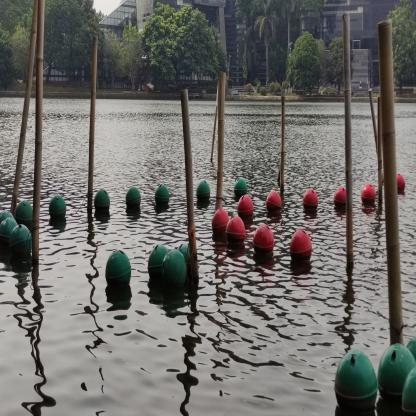green_buoy: (334, 348, 378, 414), (377, 341, 415, 402), (104, 249, 132, 292), (162, 249, 188, 293), (147, 242, 169, 284), (10, 225, 32, 260), (400, 365, 415, 415), (14, 200, 34, 228), (0, 218, 18, 247), (176, 242, 192, 274), (49, 194, 67, 222), (94, 187, 112, 213), (125, 184, 141, 212), (154, 183, 171, 209), (196, 180, 211, 204), (233, 176, 248, 198), (405, 333, 416, 361), (0, 210, 13, 226)
red_buoy: (288, 228, 314, 265), (252, 223, 275, 259), (224, 214, 247, 248), (210, 207, 230, 238), (236, 195, 254, 222), (302, 187, 319, 212), (266, 190, 282, 214), (361, 182, 376, 207), (333, 186, 347, 209), (395, 171, 406, 195)
